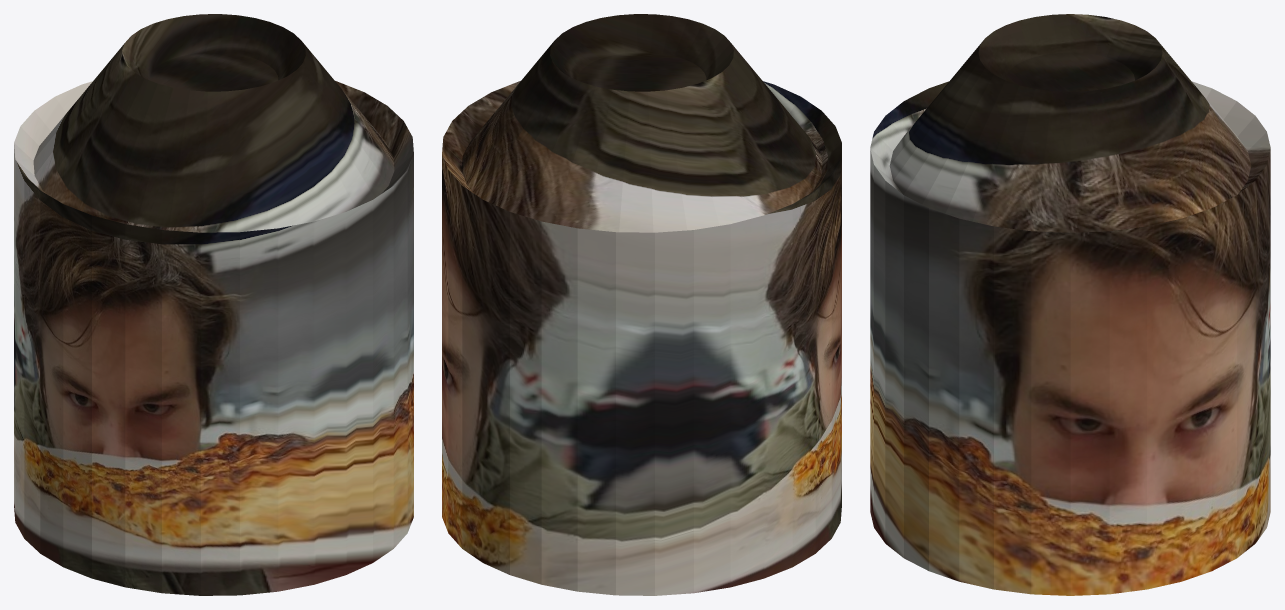
Rendered from leo.dae.
3 renders of one model, left to right at view 1: azimuth 30°, elevation 25°; view 2: azimuth 150°, elevation 25°; view 3: azimuth 270°, elevation 25°, orthographic.
Visible parts, largest first — view 1: Cylinder; view 2: Cylinder; view 3: Cylinder.
Part boxes in pixels (box(x1,y1,x2,y2)): Cylinder: box(14, 14, 413, 595); Cylinder: box(442, 14, 841, 595); Cylinder: box(870, 14, 1270, 595).
Size of the model in its own units: 2.22 by 2.22 by 2.8.
